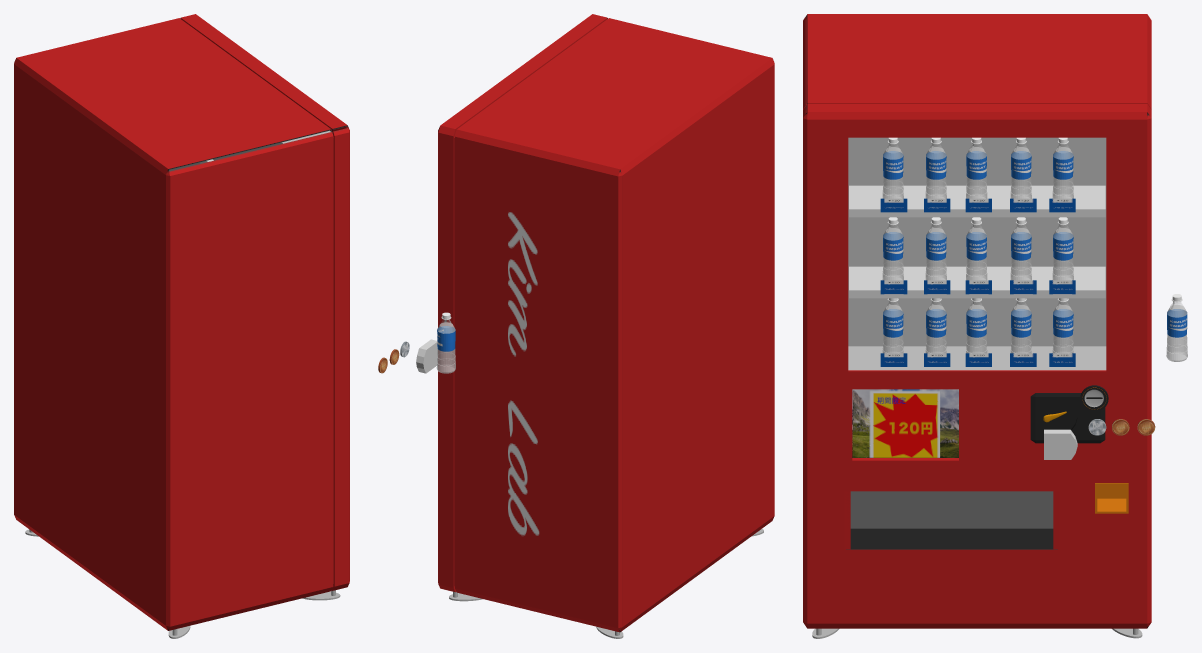
The model's file is vending_machine.fbx.
The picture shows the model from 3 angles, left to right: view 1: azimuth 30°, elevation 25°; view 2: azimuth 150°, elevation 25°; view 3: azimuth 270°, elevation 25°; orthographic projection. The views are drawn at different scales.
Visible parts, largest first — view 1: body; view 2: body, PetBottole.031, Cube.002; view 3: body, Plane, Cube.004, Cube.005, Cube.001, PetBottole.031, PetBottole.020, PetBottole.022, PetBottole.023, PetBottole.024, PetBottole.021, PetBottole.016 (+12 smaller).
Boxes of the visible parts, x1,y1,x2,y2 form: body: (14,14,349,630); body: (438,14,774,632); PetBottole.031: (436,312,455,373); Cube.002: (416,339,437,373); body: (803,14,1151,628); Plane: (850,491,1053,528); Cube.004: (849,185,1105,217); Cube.005: (849,266,1105,298); Cube.001: (1030,393,1105,443); PetBottole.031: (1166,294,1187,361); PetBottole.020: (966,217,987,280); PetBottole.022: (1052,217,1073,280); PetBottole.023: (925,217,946,280); PetBottole.024: (882,217,903,280); PetBottole.021: (1010,217,1031,280); PetBottole.016: (966,137,987,198).
Bounding box in the file's own units: 391 × 737 × 486.
Materials: 16 (6 with a texture image).
